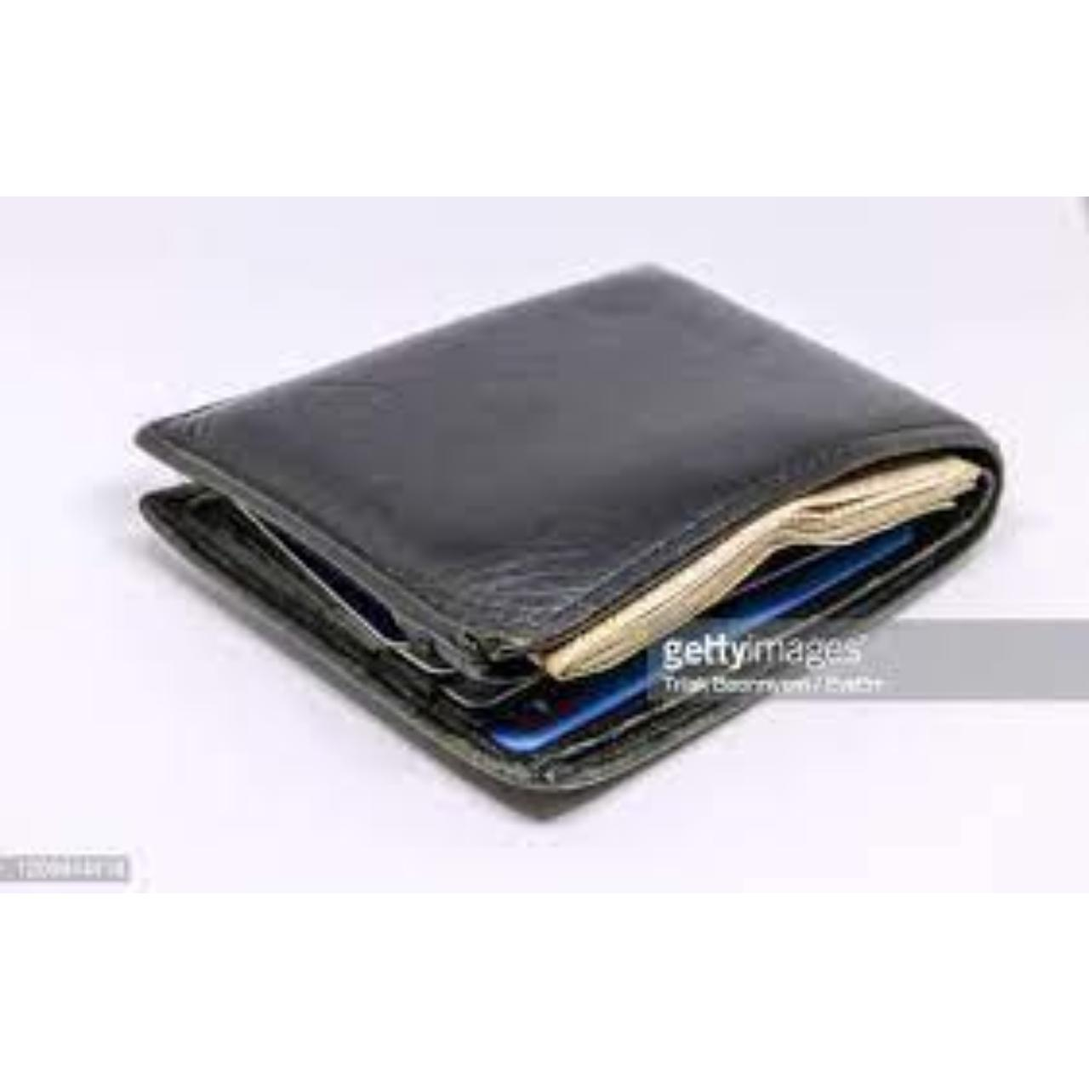wallet: (140, 246, 1011, 815)
